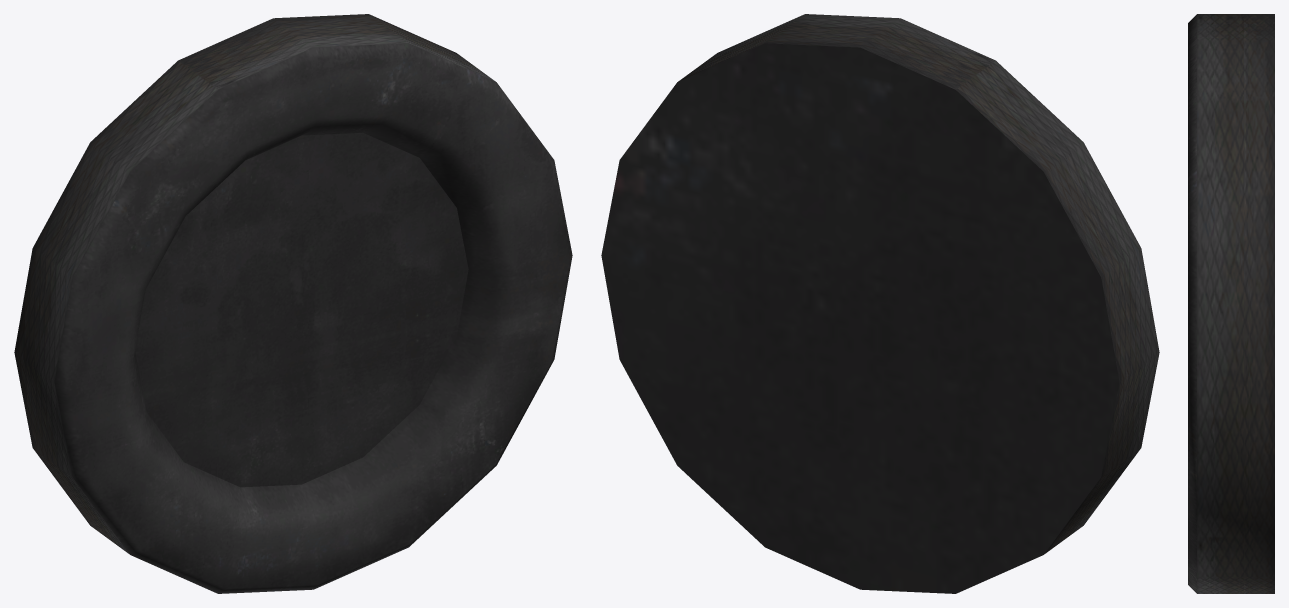
File: nt_2020_shuffleboard_puck_02_LOD0.obj
3 renders of one model, left to right at view 1: azimuth 30°, elevation 25°; view 2: azimuth 150°, elevation 25°; view 3: azimuth 270°, elevation 25°, orthographic. The views are drawn at different scales.
Visible parts, largest first — view 1: mtl_nt_2020_shuffleboard_puck; view 2: mtl_nt_2020_shuffleboard_puck; view 3: mtl_nt_2020_shuffleboard_puck.
Boxes of the visible parts, box(x1,y1,x2,y2) form: mtl_nt_2020_shuffleboard_puck: box(14, 14, 572, 593); mtl_nt_2020_shuffleboard_puck: box(601, 14, 1159, 593); mtl_nt_2020_shuffleboard_puck: box(1188, 14, 1274, 593).
Size of the model in its own units: 25.4 by 25.4 by 3.8.
